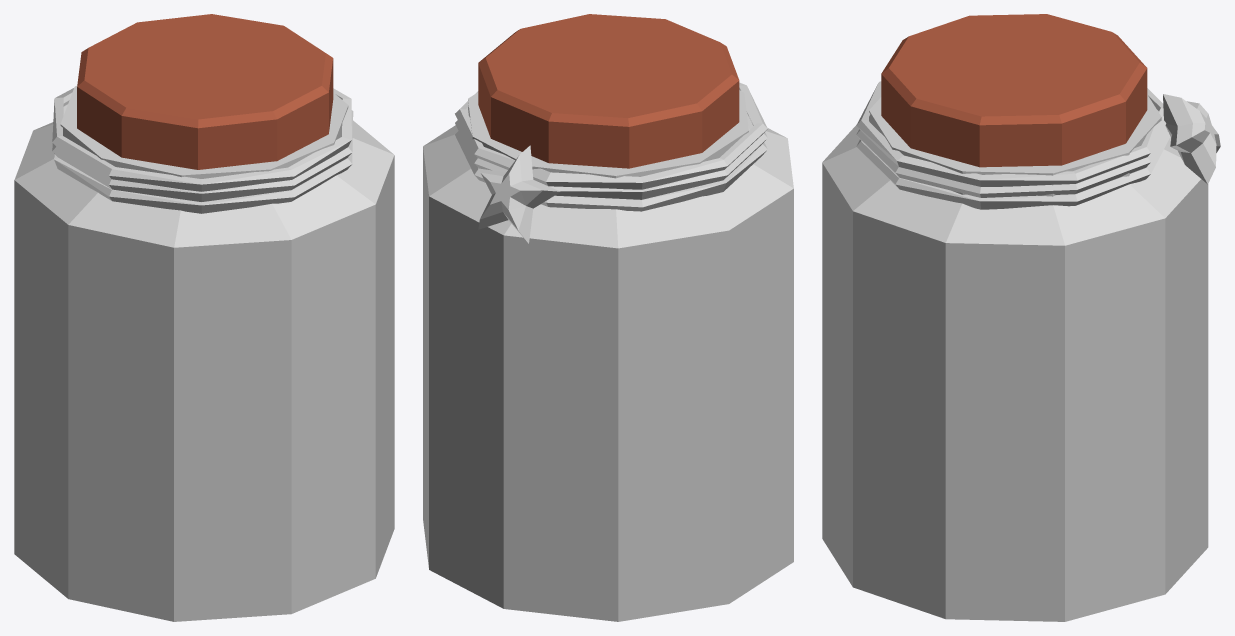
The model's file is Jar_NPC_Use.fbx.
3 views of the same model, side by side, from view 1: azimuth 30°, elevation 25°; view 2: azimuth 150°, elevation 25°; view 3: azimuth 270°, elevation 25° (orthographic).
Parts seen in each view (by area): view 1: Jar, Jar_cap, Prop; view 2: Jar, Jar_cap, Prop; view 3: Jar, Jar_cap, Prop.
Boxes of the visible parts, <box> form: Jar: <box>14,86,394,621</box>; Jar_cap: <box>77,14,333,169</box>; Prop: <box>52,88,353,213</box>; Jar: <box>423,90,793,621</box>; Jar_cap: <box>478,14,739,168</box>; Prop: <box>455,82,767,243</box>; Jar: <box>822,95,1208,621</box>; Jar_cap: <box>881,14,1147,167</box>; Prop: <box>856,81,1220,209</box>.
Size of the model in its own units: 28.71 by 40.5 by 30.62.
